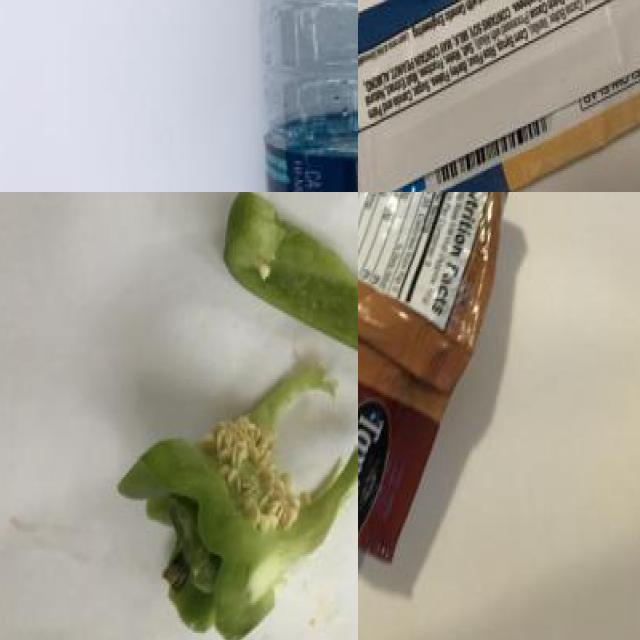compost: (118, 192, 358, 640)
plastic: (252, 0, 358, 192)
trash: (358, 192, 524, 562), (358, 0, 640, 192)
